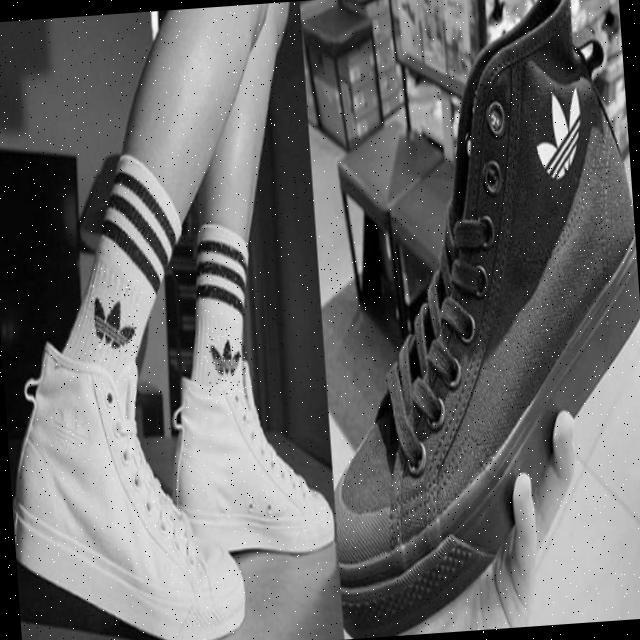Adidas: (527, 74, 591, 200), (85, 281, 143, 362), (202, 327, 250, 397)
